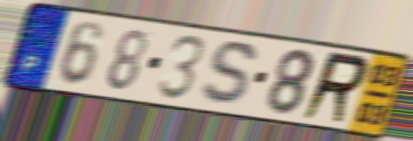3: (156, 33, 207, 102)
6: (56, 19, 107, 89)
8: (263, 47, 316, 117), (104, 28, 149, 92)
R: (297, 49, 372, 127)
S: (198, 38, 263, 109)
